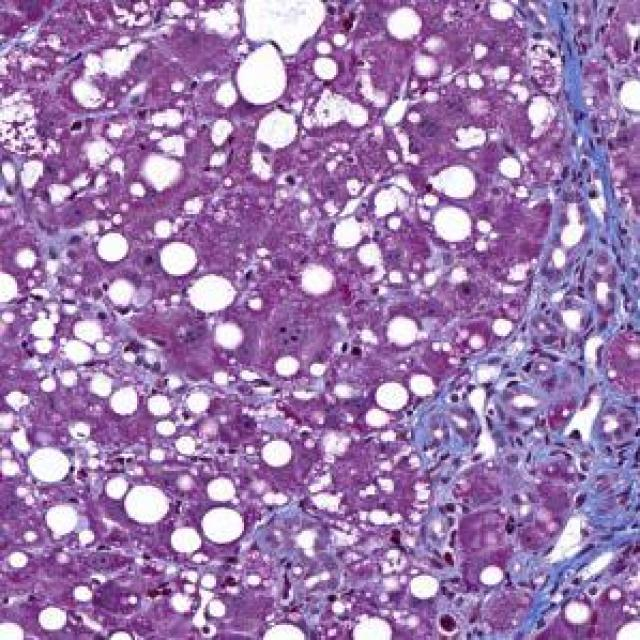fibrosis: (421, 372, 640, 558), (513, 181, 640, 355)
